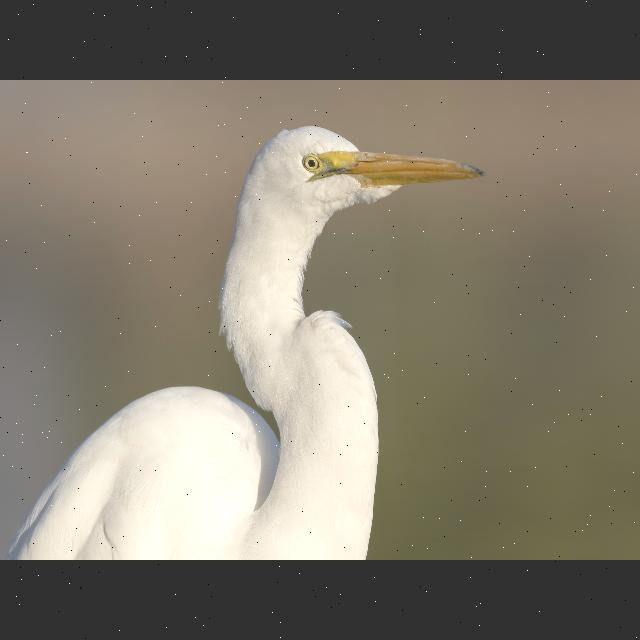egret: (3, 120, 487, 560)
